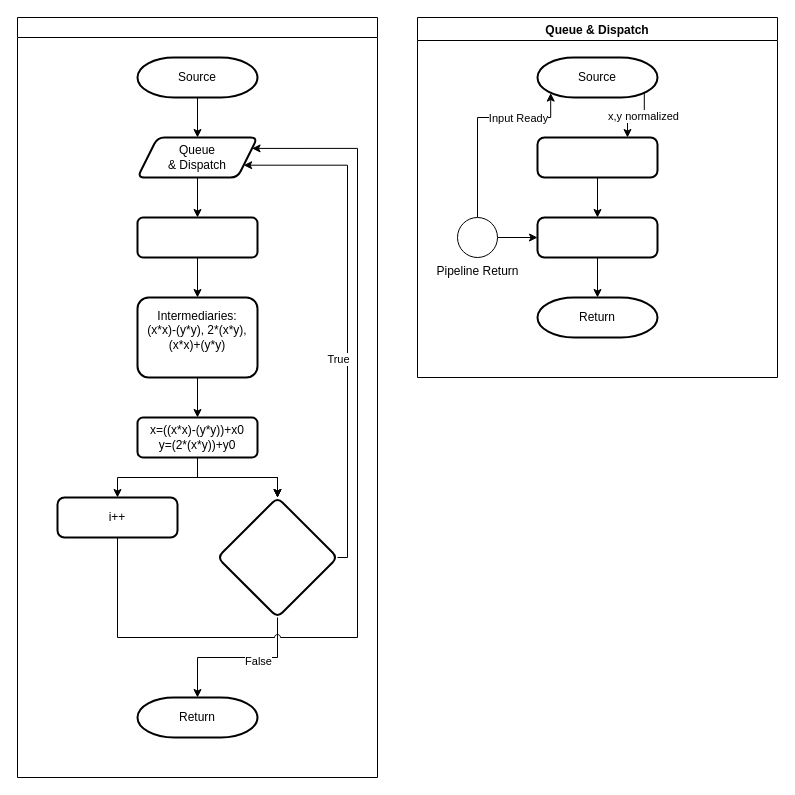
Image size: 795x795. Some labels were removed from this diagram. The shapes that lost their labels are listed below. From the top down, each one's box as (x1, y1, x2, y2) in pixels, then its label:
(536, 136, 658, 178): Scale x,y to fit in set x*3.5-2.5, y*2-1
(136, 216, 258, 258): Intermediaries: x*x, y*y, x*y
(536, 216, 658, 258): FIFO
(16, 16, 378, 778): Pipeline
(216, 496, 338, 618): ((x*x)+(y*y)) <= 4 && i < I_MAX
